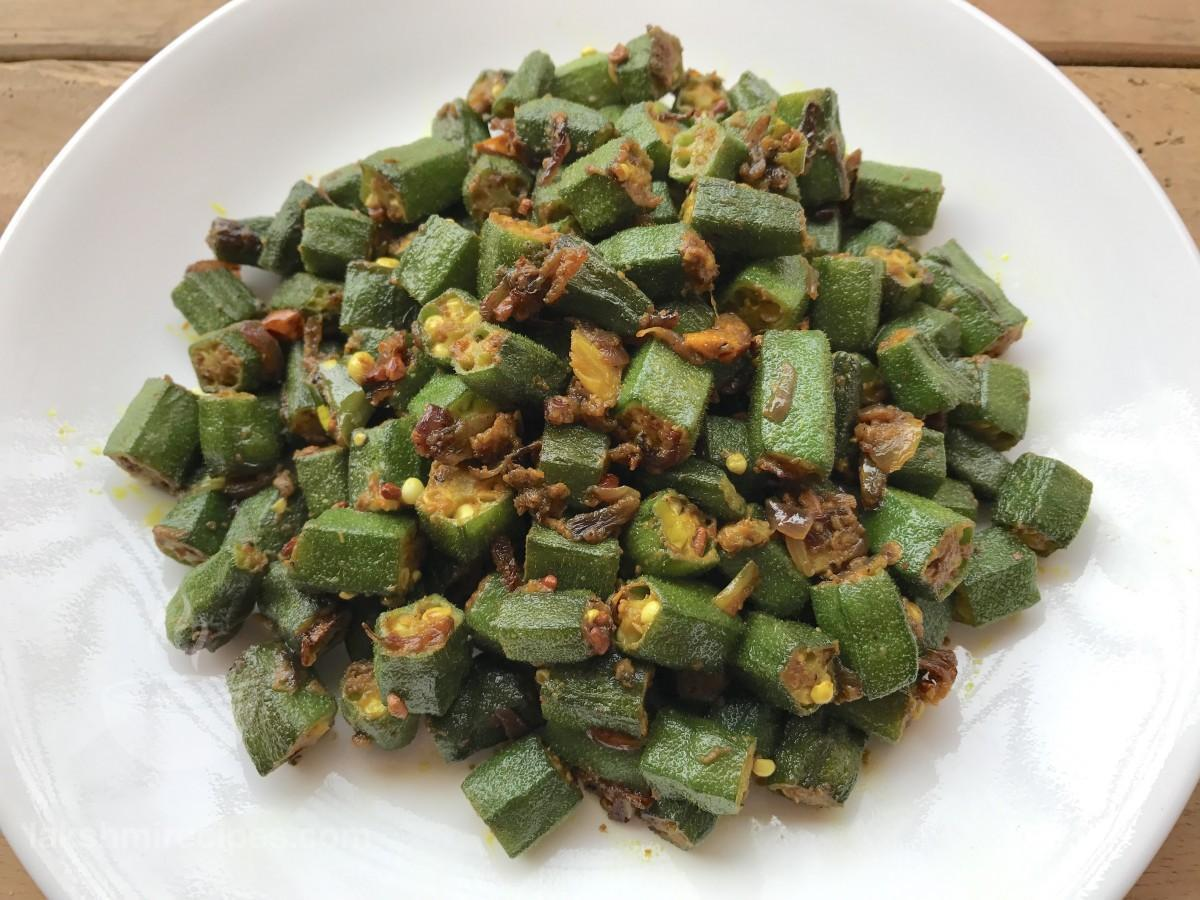bhindi: (189, 122, 967, 812)
